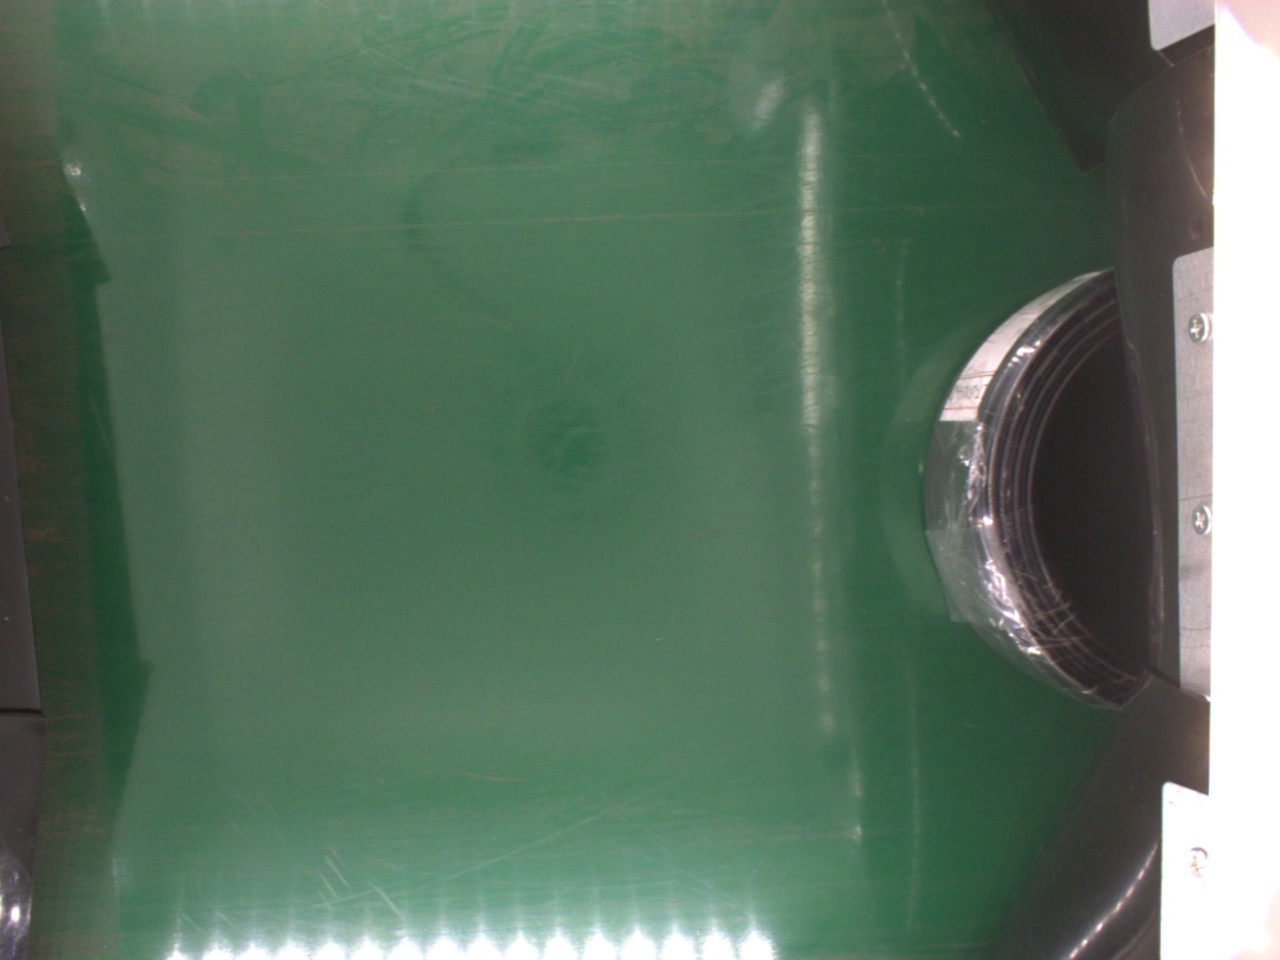black: (924, 269, 1152, 714)
